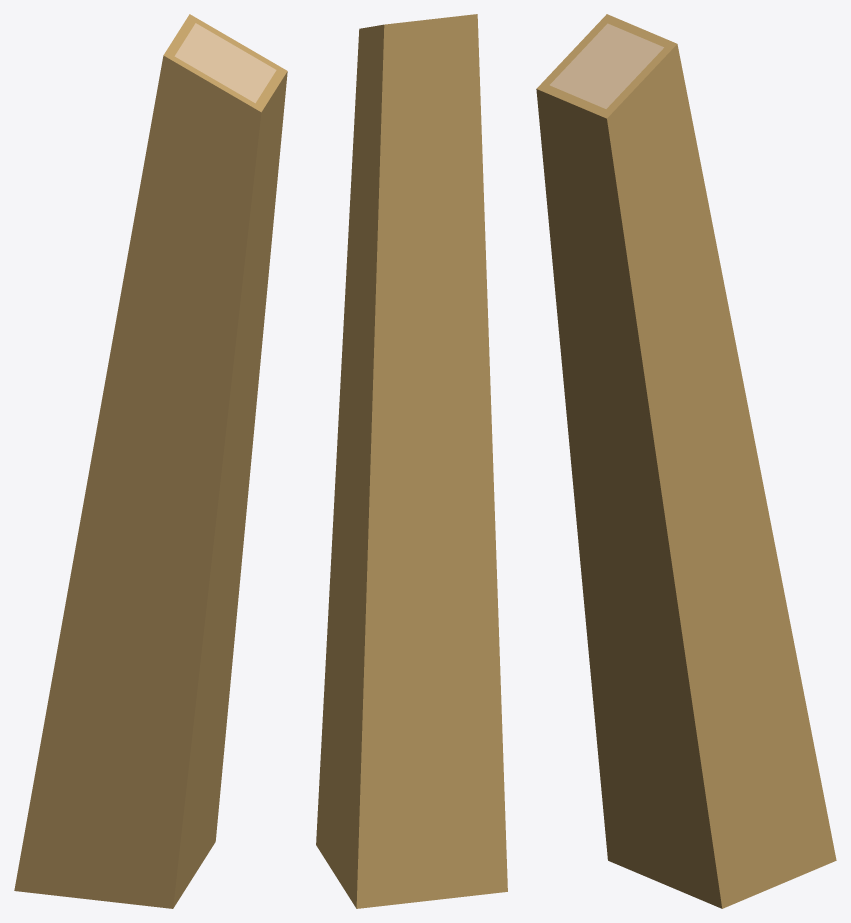
The model's file is Simple_Stump_03.fbx.
The picture shows the model from 3 angles, left to right: view 1: azimuth 30°, elevation 25°; view 2: azimuth 150°, elevation 25°; view 3: azimuth 270°, elevation 25°; orthographic projection. The views are drawn at different scales.
Parts seen in each view (by area): view 1: Simple_Stump_03; view 2: Simple_Stump_03; view 3: Simple_Stump_03.
Boxes of the visible parts, x1,y1,x2,y2 form: Simple_Stump_03: [14, 14, 287, 908]; Simple_Stump_03: [316, 14, 507, 908]; Simple_Stump_03: [536, 14, 836, 908].
Bounding box in the file's own units: 23.88 × 91 × 29.41.
